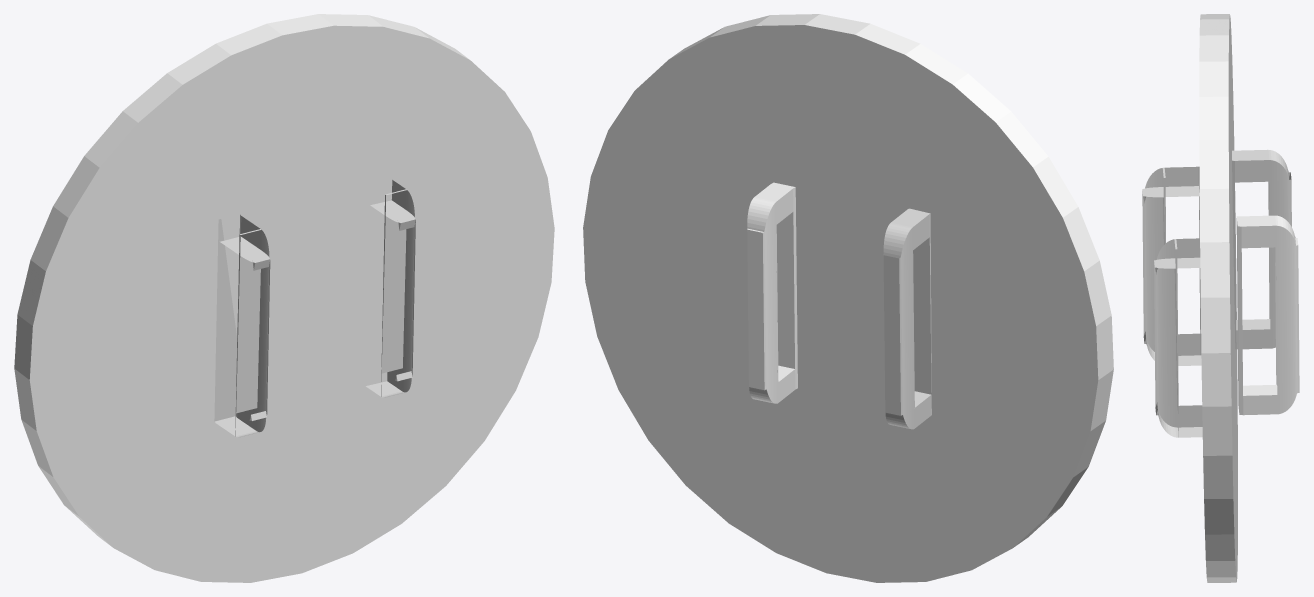
File: QuarterDoor.glb
3 views of the same model, side by side, from view 1: azimuth 30°, elevation 25°; view 2: azimuth 150°, elevation 25°; view 3: azimuth 270°, elevation 25° (orthographic). The views are drawn at different scales.
Visible parts, largest first — view 1: door out habitat; view 2: door out habitat; view 3: door out habitat.
Boxes of the visible parts, left/top/right/bottom form: door out habitat: left=14, top=14, right=554, bottom=582; door out habitat: left=583, top=14, right=1113, bottom=582; door out habitat: left=1142, top=14, right=1299, bottom=582.
Bounding box in the file's own units: 2.93 × 2.93 × 0.8105.
2 materials, 2 textured.
